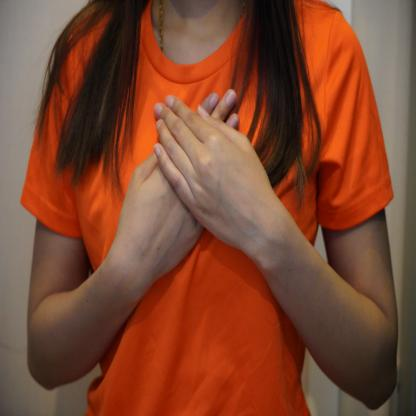Grieve: (107, 79, 292, 311)
